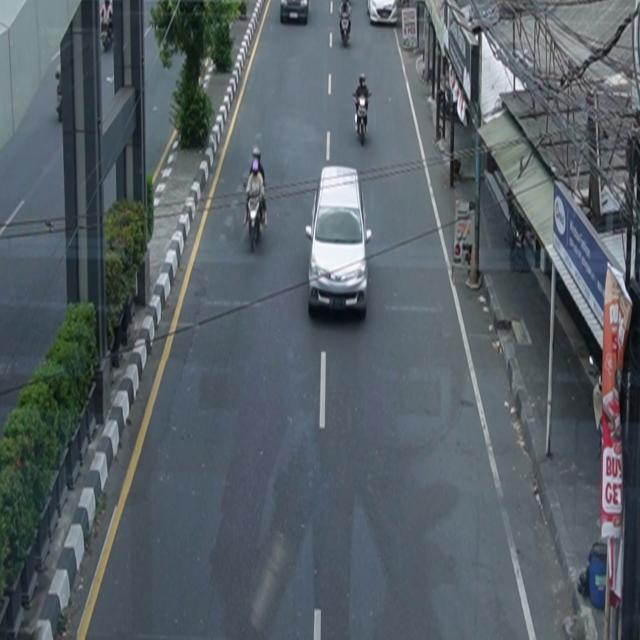car: (306, 166, 373, 319), (367, 1, 398, 26), (281, 1, 310, 25)
